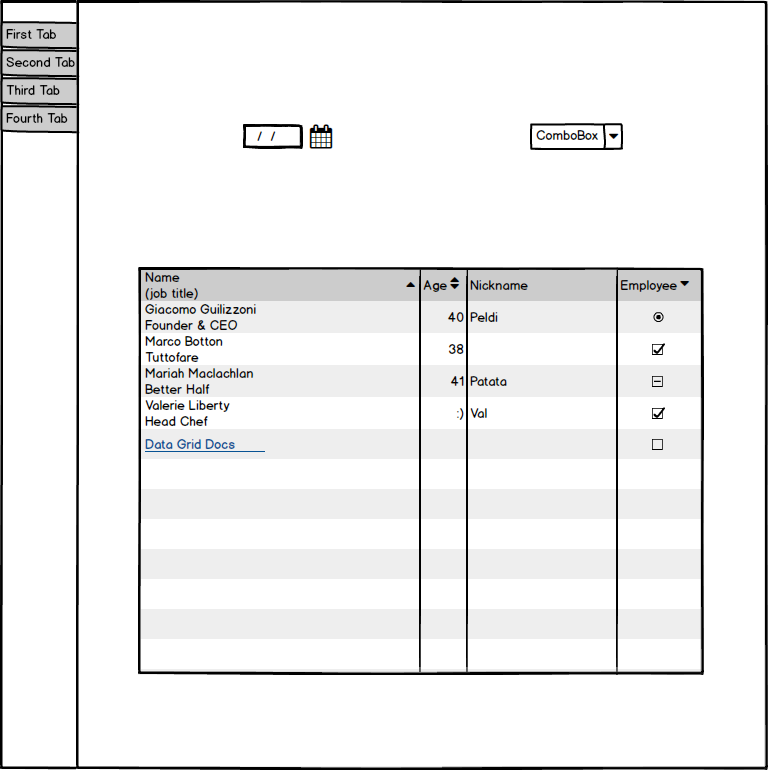date_picker: (238, 117, 344, 157)
select_box: (519, 115, 630, 161)
sidebar: (2, 10, 90, 147)
table: (131, 260, 713, 680)
